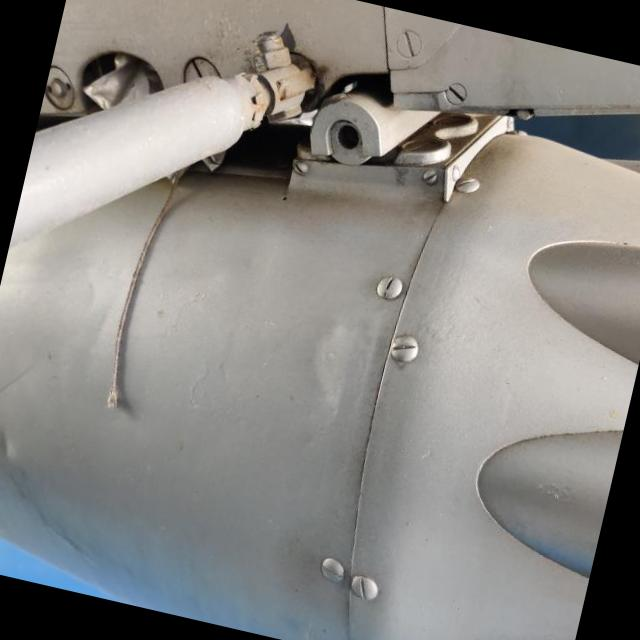Dent: (312, 324, 352, 414)
